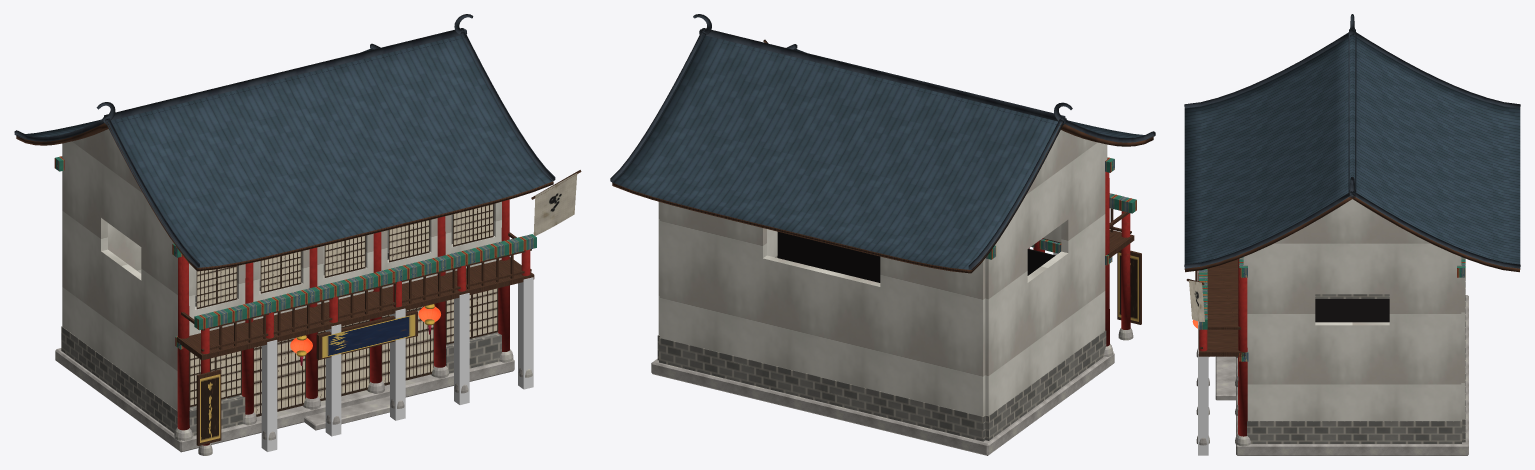
File: town_house_large.glb
3 renders of one model, left to right at view 1: azimuth 30°, elevation 25°; view 2: azimuth 150°, elevation 25°; view 3: azimuth 270°, elevation 25°, orthographic. The views are drawn at different scales.
Parts seen in each view (by area): view 1: InnRoof, InnWalls, InnLattice, InnBalcony, InnColumns, InnPlinth, InnBeams, InnRoofRidge, InnDado, InnFrontDado, InnPlaque, InnPost-convcolonly.001 (+8 smaller); view 2: InnWalls, InnRoof, InnDado, InnPlinth, InnRoofRidge, InnInside, InnColumns, InnBeams, InnSign, InnBalcony; view 3: InnRoof, InnWalls, InnDado, InnPlinth, InnRoofRidge, InnBalcony, InnInside, InnColumns, InnPost-convcolonly.005, InnBeams, InnWineFlag, InnColumnBases.
Boxes of the visible parts, x1=… form: InnRoof: x1=16, y1=35, x2=553, y2=271; InnWalls: x1=62, y1=129, x2=501, y2=410; InnLattice: x1=189, y1=204, x2=498, y2=416; InnBalcony: x1=177, y1=232, x2=534, y2=360; InnColumns: x1=177, y1=199, x2=530, y2=445; InnPlinth: x1=55, y1=348, x2=514, y2=452; InnBeams: x1=54, y1=156, x2=536, y2=349; InnRoofRidge: x1=14, y1=14, x2=555, y2=267; InnDado: x1=61, y1=252, x2=388, y2=433; InnFrontDado: x1=189, y1=332, x2=501, y2=435; InnPlaque: x1=322, y1=314, x2=415, y2=357; InnPost-convcolonly.001: x1=261, y1=340, x2=277, y2=451; InnWalls: x1=658, y1=130, x2=1107, y2=416; InnRoof: x1=612, y1=35, x2=1153, y2=273; InnDado: x1=657, y1=255, x2=1106, y2=441; InnPlinth: x1=651, y1=352, x2=1114, y2=455; InnRoofRidge: x1=610, y1=14, x2=1155, y2=269; InnInside: x1=777, y1=232, x2=1055, y2=282; InnColumns: x1=1033, y1=172, x2=1130, y2=346; InnBeams: x1=985, y1=157, x2=1136, y2=265; InnSign: x1=1118, y1=252, x2=1138, y2=321; InnBalcony: x1=1043, y1=208, x2=1134, y2=258; InnRoof: x1=1184, y1=35, x2=1520, y2=272; InnWalls: x1=1243, y1=199, x2=1464, y2=420; InnDado: x1=1247, y1=277, x2=1465, y2=443; InnPlinth: x1=1215, y1=295, x2=1468, y2=455; InnRoofRidge: x1=1184, y1=14, x2=1520, y2=268; InnBalcony: x1=1198, y1=259, x2=1245, y2=356; InnInside: x1=1315, y1=299, x2=1389, y2=322; InnColumns: x1=1199, y1=259, x2=1247, y2=436; InnPost-convcolonly.005: x1=1198, y1=349, x2=1208, y2=455; InnBeams: x1=1199, y1=257, x2=1465, y2=361; InnWineFlag: x1=1189, y1=280, x2=1204, y2=321; InnColumnBases: x1=1196, y1=349, x2=1250, y2=446.
Size of what is drawn, in the model's own units: 13.58 by 10.1 by 10.82.
16 materials, 15 textured.
